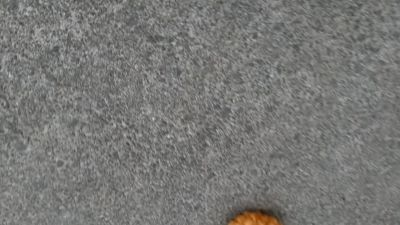eggs: (226, 210, 279, 225)
